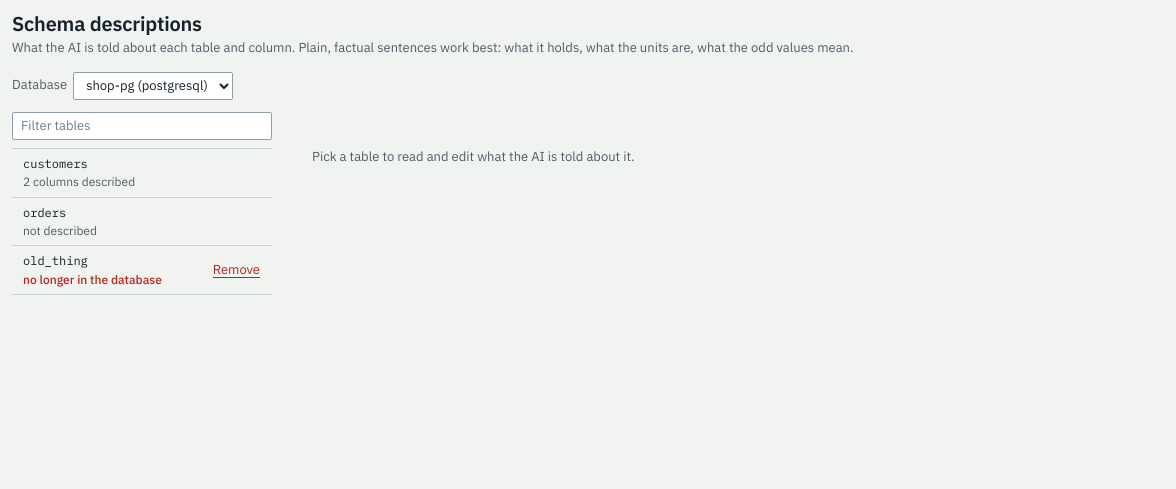
it: schema editor › shows why a save failed and keeps the text
Click the button "customers 2 columns described": [55, 163] box [12,149,272,197]
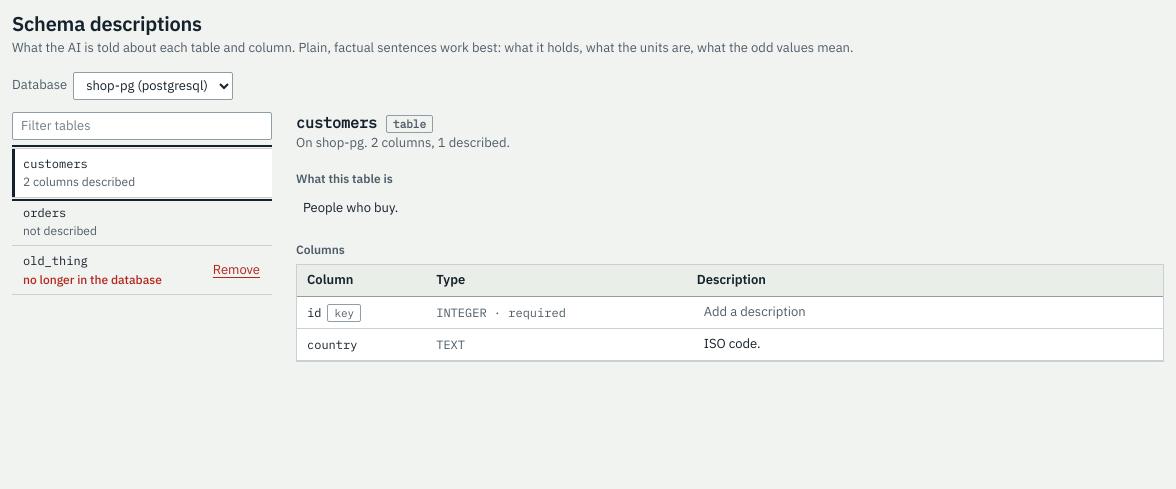
Click the button with aria-label "Description of customers.id": [755, 312] box [697,298,1153,327]
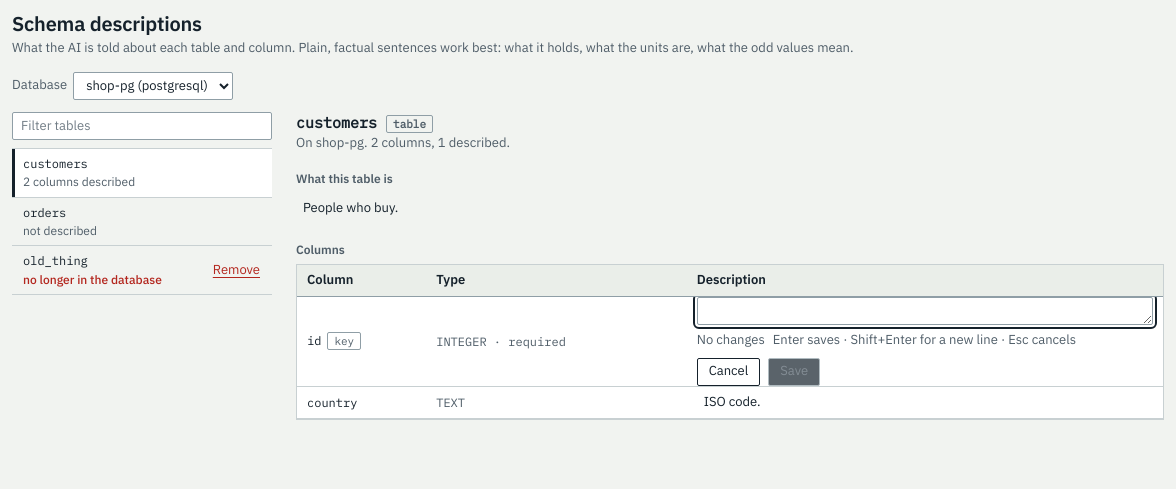
In the text box: [925, 311] box [697,297,1153,325], type "Key."
Then press Enter
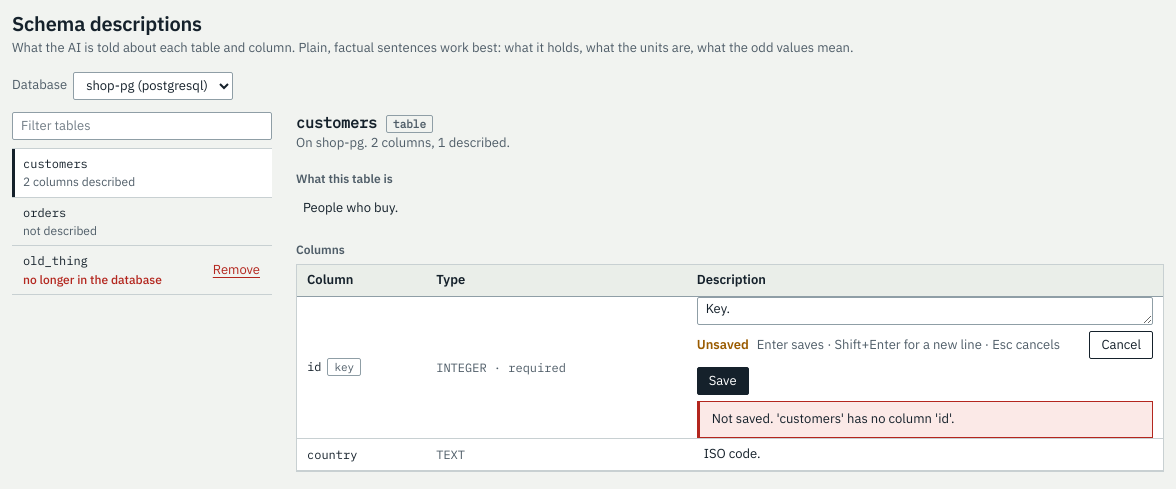
Expected: the text "Not saved. 'customers' has no column 'id'." is shown, [697,401,1153,438]
